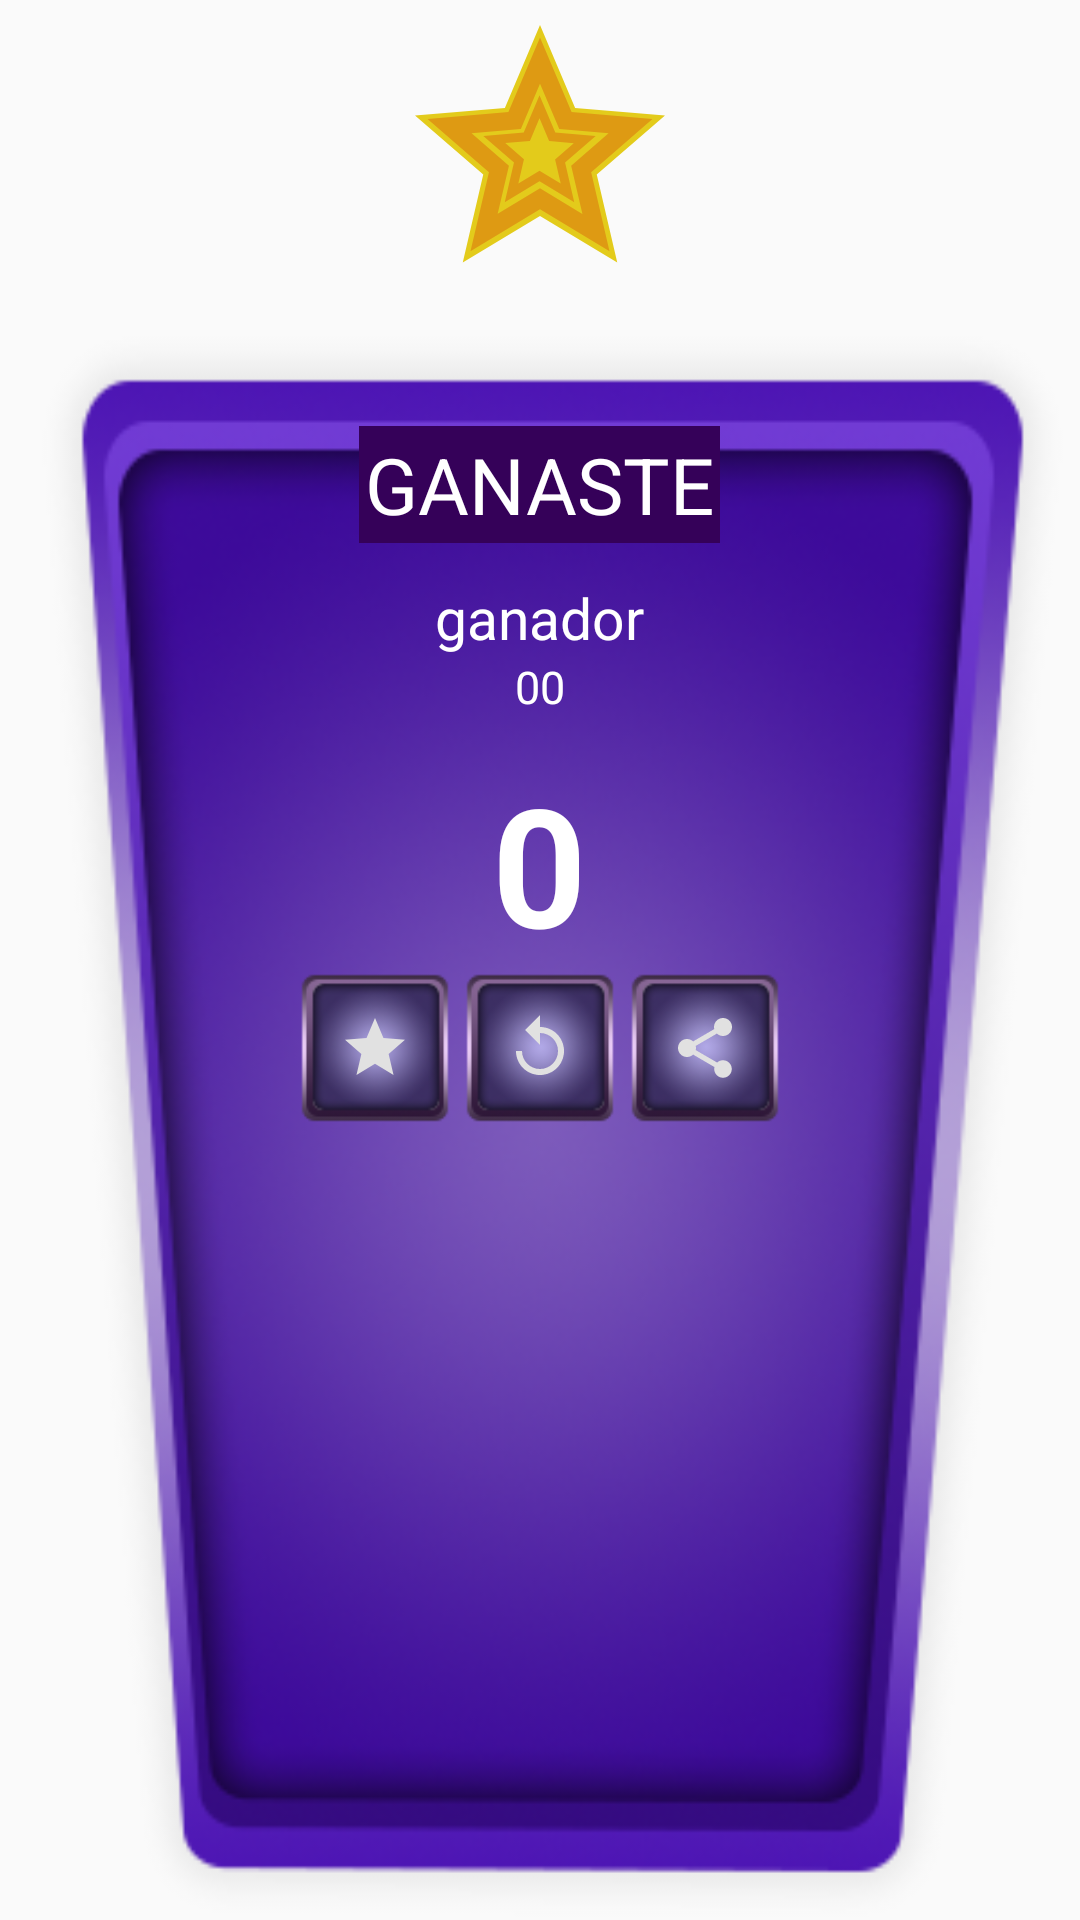

Icon click points for this 1080*1920 phone screenshot, format point (x, y):
icno shared: point (705, 1048)
replay: point (540, 1048)
